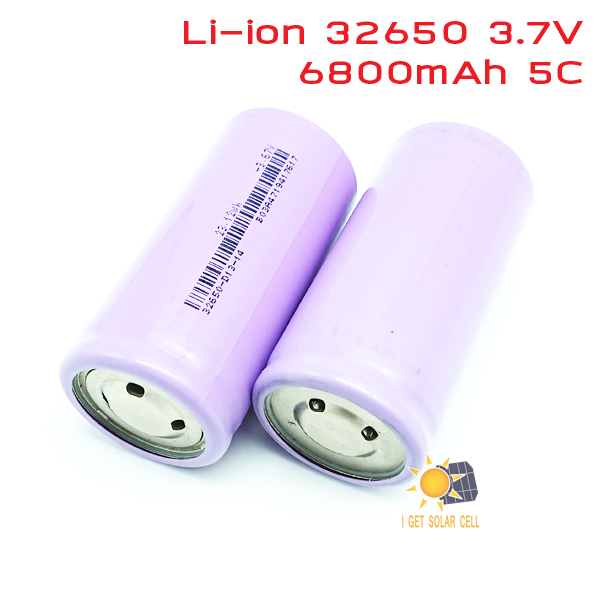Battery: (57, 106, 362, 473), (248, 120, 537, 492)
